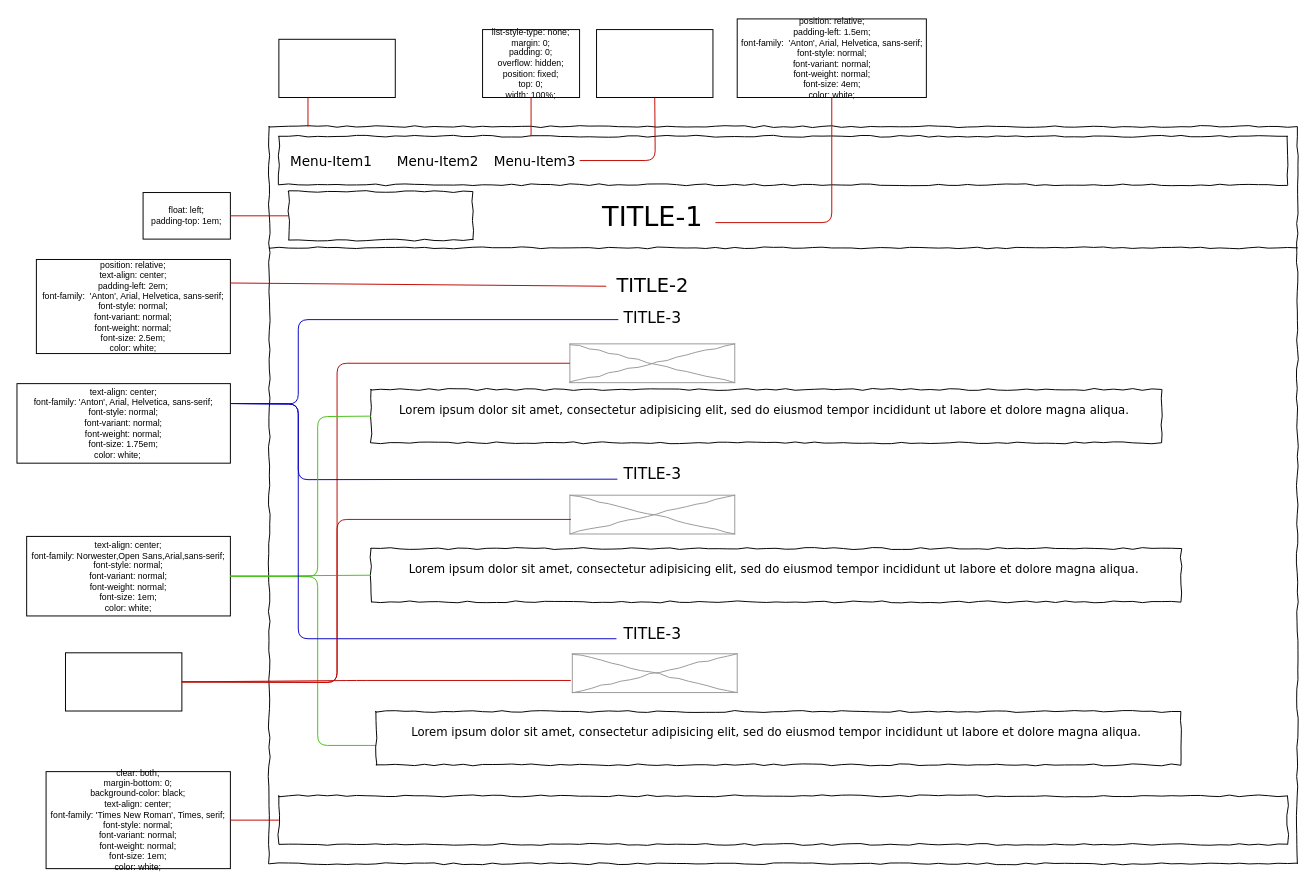
The diagram is 1314 pixels wide and 889 high, and some of its shapes have lost their labels. The shapes that lost their labels are listed below. From the top down, each one's box as (x1, y1, x2, y2) in pixels, then its label:
(278, 38, 395, 97): background-color: black;
(596, 29, 713, 97): float: left; border-right: 1px solid #bbb;
(288, 191, 473, 240): LOGO
(65, 652, 182, 711): display: block; margin-left: auto; margin-right: auto;
(278, 795, 1288, 844): Footer
